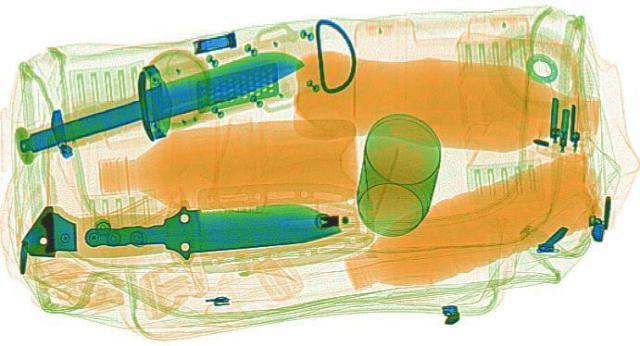Knife: (0, 27, 335, 166), (79, 192, 349, 263)
